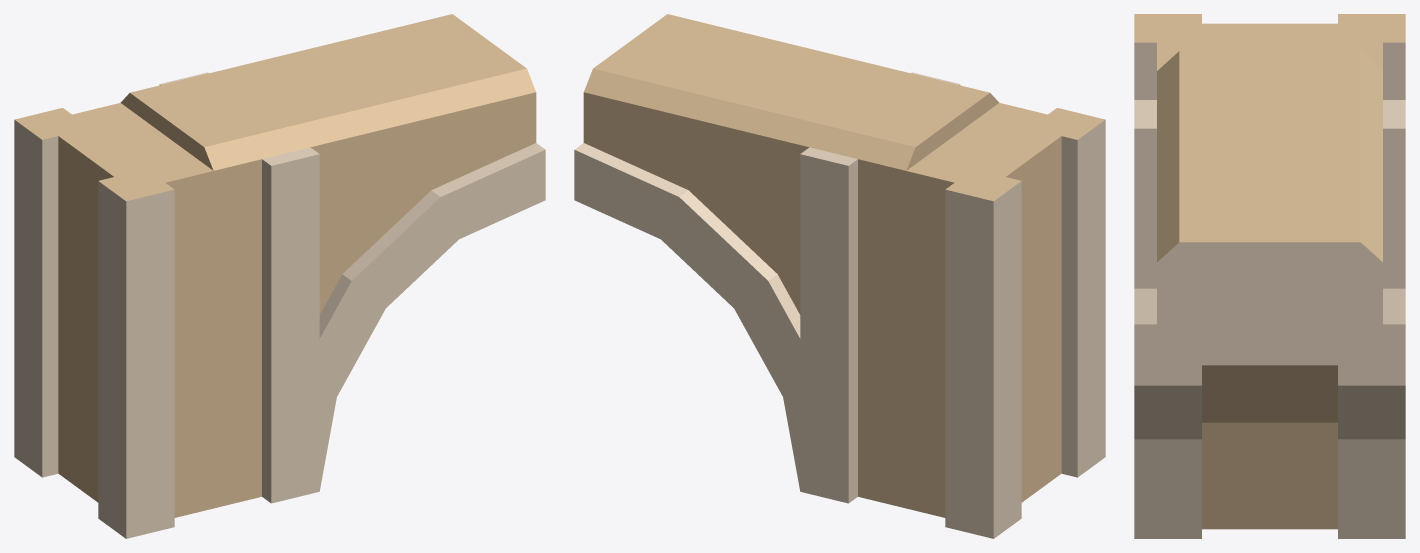
3 renders of one model, left to right at view 1: azimuth 30°, elevation 25°; view 2: azimuth 150°, elevation 25°; view 3: azimuth 270°, elevation 25°, orthographic. The views are drawn at different scales.
Parts seen in each view (by area): view 1: object2; view 2: object2; view 3: object2.
Part boxes in pixels (x1,y1,x2,y2): object2: [14, 14, 545, 538]; object2: [574, 14, 1105, 538]; object2: [1134, 14, 1405, 538].
Size of the model in its own units: 1.3 by 1.05 by 0.6.
